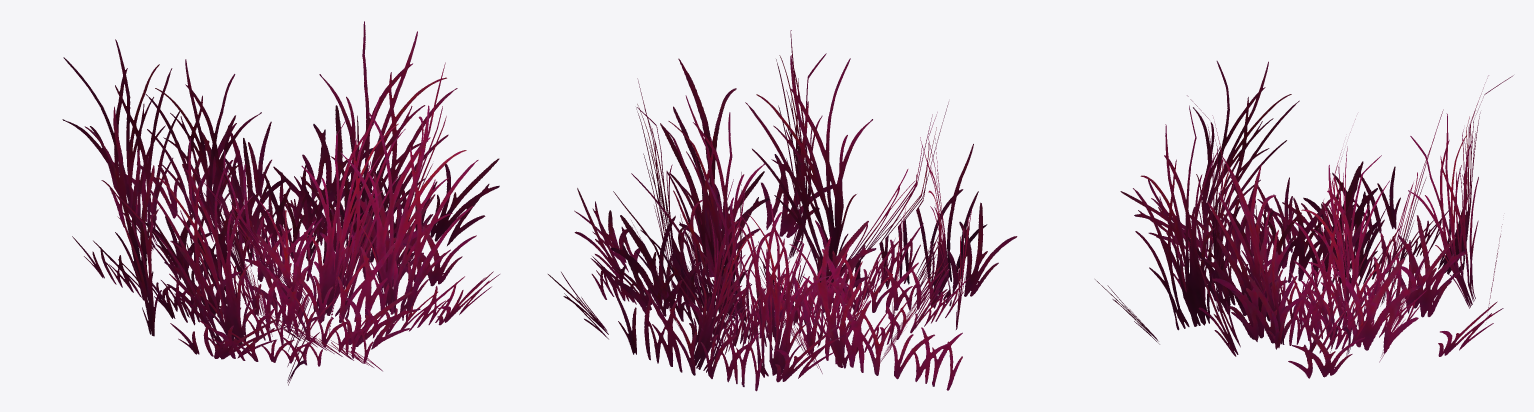
The picture shows the model from 3 angles, left to right: view 1: azimuth 30°, elevation 25°; view 2: azimuth 150°, elevation 25°; view 3: azimuth 270°, elevation 25°; orthographic projection. The views are drawn at different scales.
Visible parts, largest first — view 1: SM_GF_GrassLong_03_LOD0; view 2: SM_GF_GrassLong_03_LOD0; view 3: SM_GF_GrassLong_03_LOD0.
Boxes of the visible parts, left/top/right/bottom form: SM_GF_GrassLong_03_LOD0: left=62, top=21, right=499, bottom=385; SM_GF_GrassLong_03_LOD0: left=548, top=30, right=1017, bottom=391; SM_GF_GrassLong_03_LOD0: left=1095, top=61, right=1513, bottom=378.
Size of the model in its own units: 1.17 by 0.6121 by 1.08.
1 material, 1 textured.
